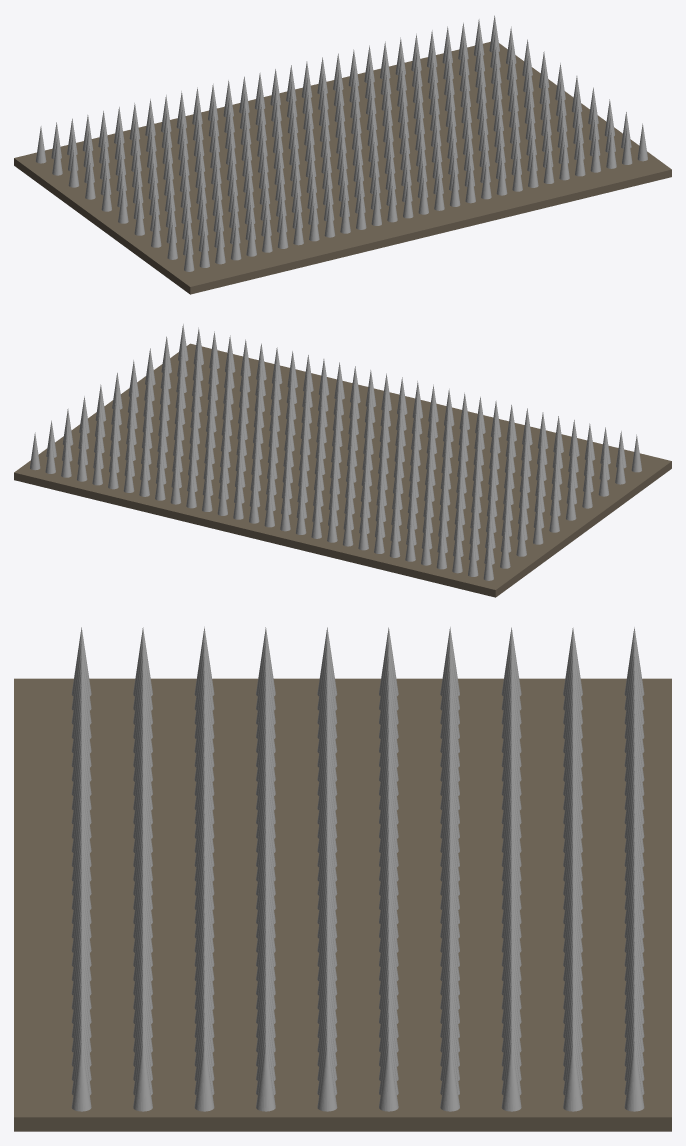
The model's file is carpet.fbx.
3 renders of one model, top to bottom at view 1: azimuth 30°, elevation 25°; view 2: azimuth 150°, elevation 25°; view 3: azimuth 270°, elevation 25°, orthographic. The views are drawn at different scales.
Visible parts, largest first — view 1: Plane, Cone.002; view 2: Plane, Cone.002; view 3: Plane, Cone.002.
Boxes of the visible parts, bbox=[...] form: Plane: bbox=[14, 42, 671, 294]; Cone.002: bbox=[35, 15, 647, 271]; Plane: bbox=[14, 343, 671, 597]; Cone.002: bbox=[30, 324, 641, 580]; Plane: bbox=[14, 678, 671, 1131]; Cone.002: bbox=[71, 626, 644, 1111].
Size of the model in its own units: 272 by 23.65 by 173.
